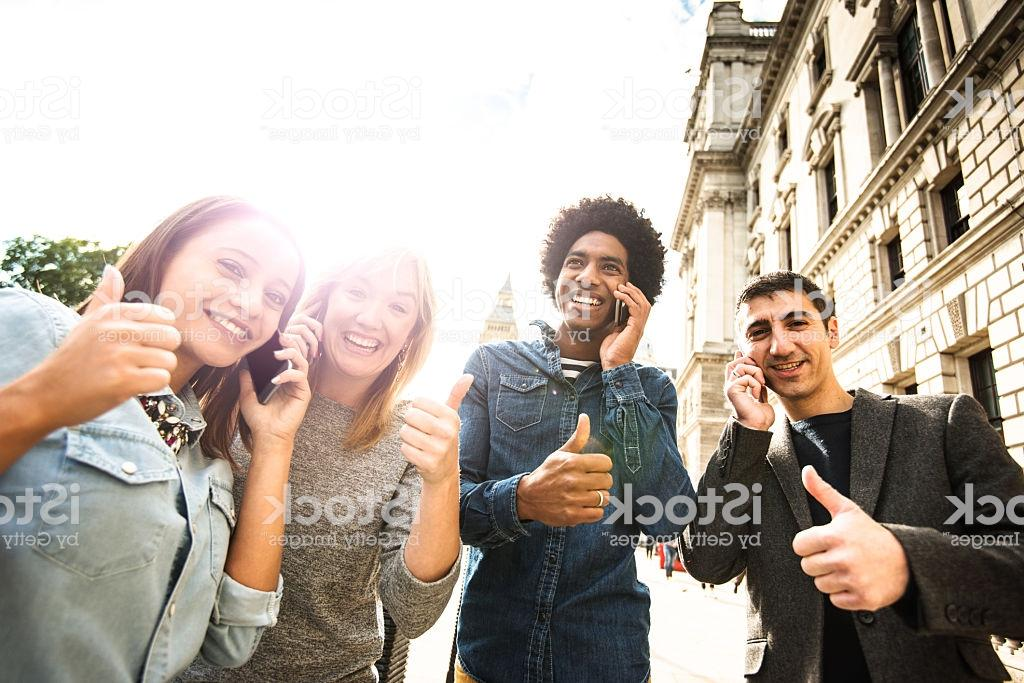thumbsup: (789, 462, 887, 615), (537, 411, 614, 532), (398, 371, 477, 476)
